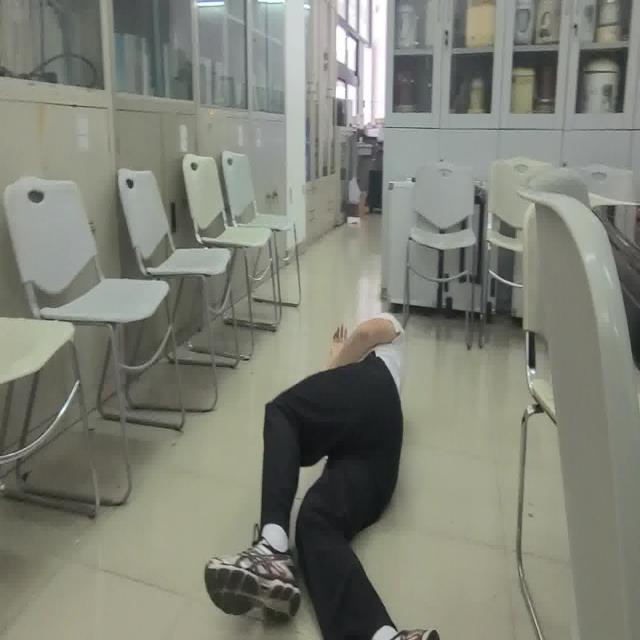fall: (202, 306, 444, 640)
